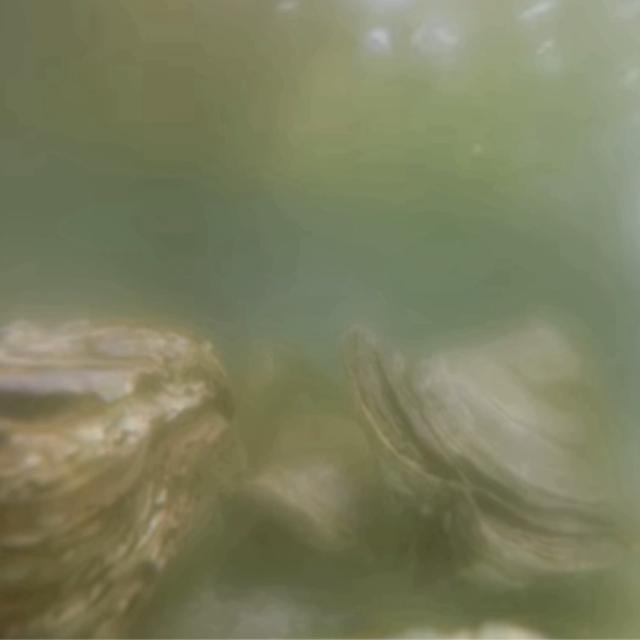Oyster-Closed: (340, 322, 640, 598), (0, 321, 251, 640)
Oyster-Indeterminate: (237, 412, 383, 561)
